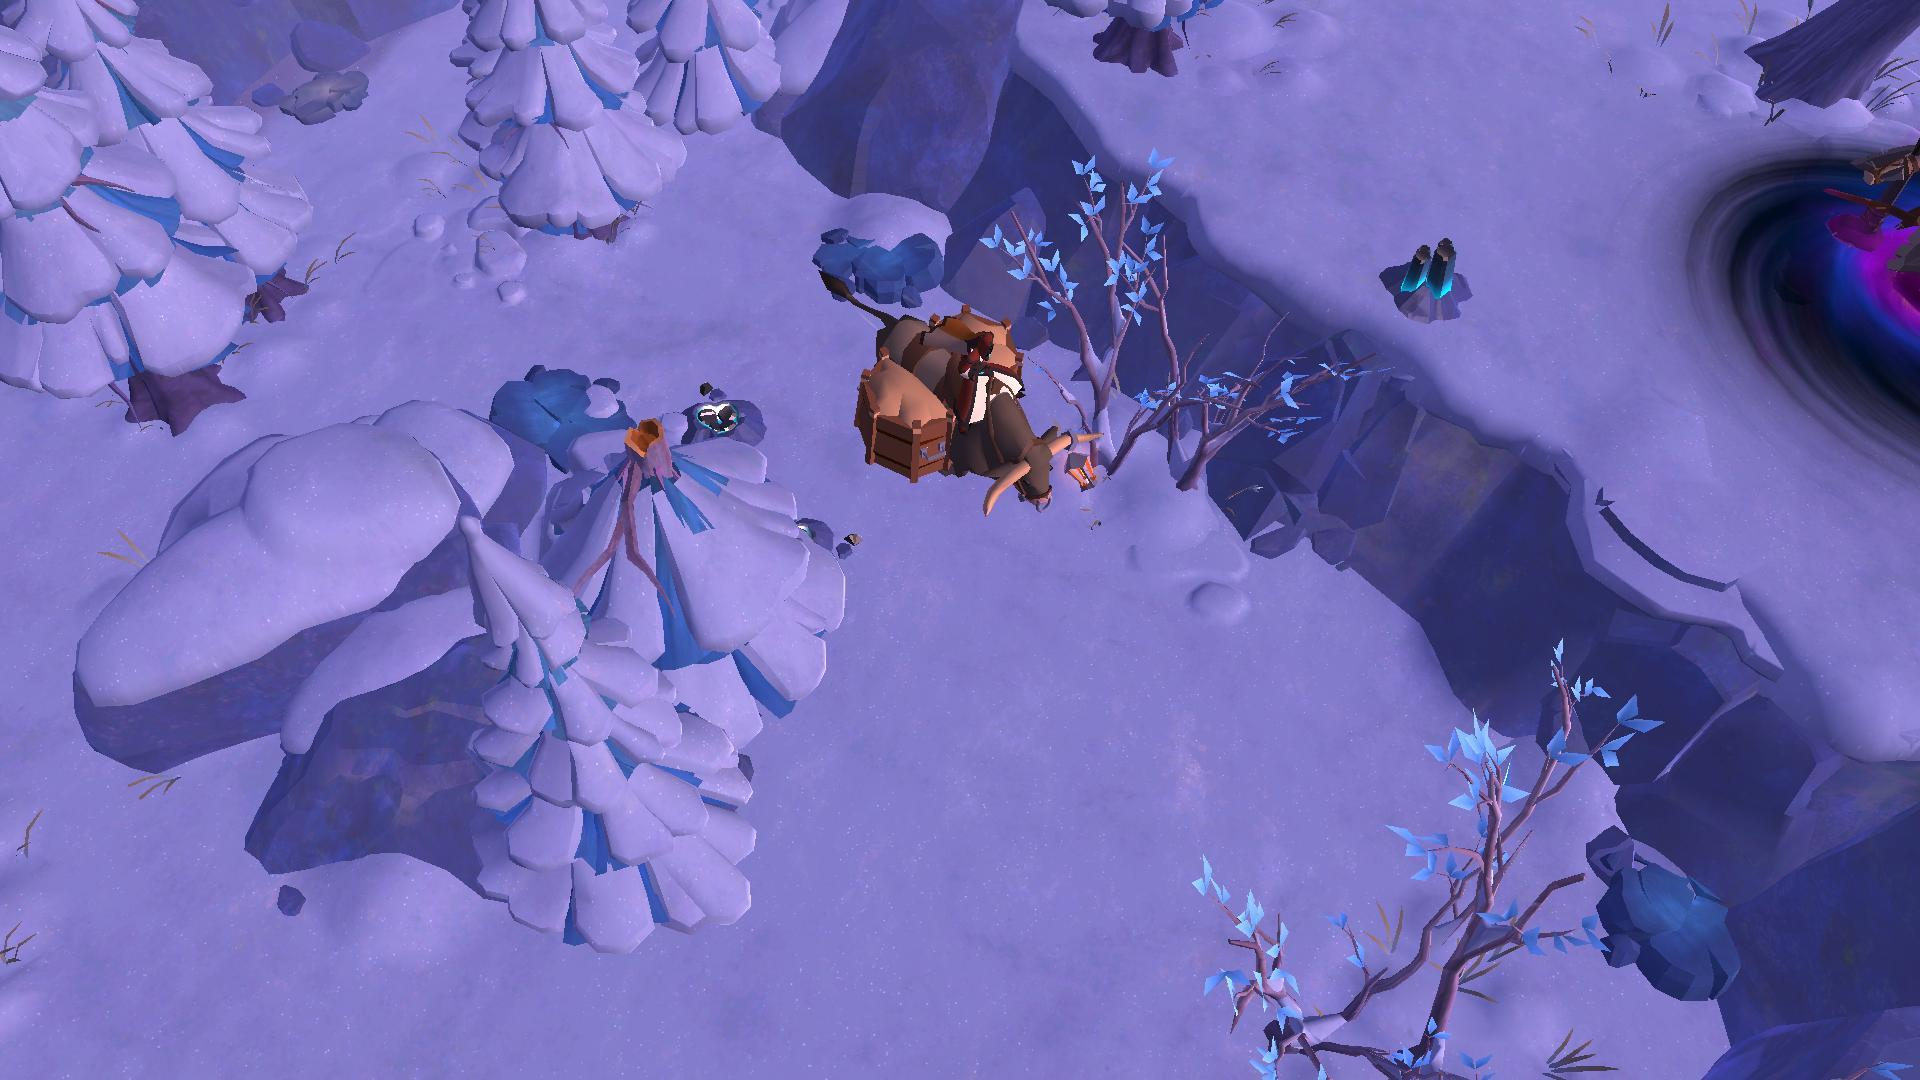ore_t4: (1396, 237, 1464, 301)
